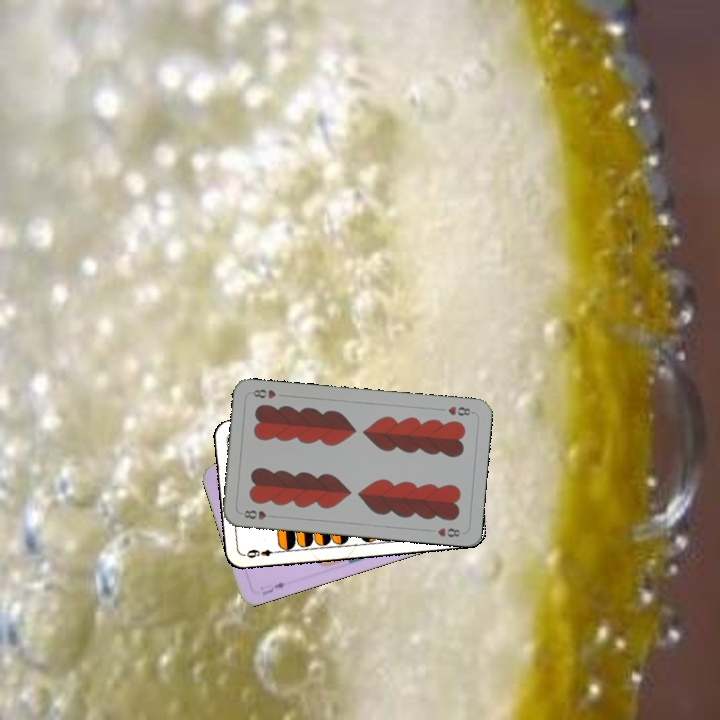E9: (241, 545, 281, 561)
EU: (258, 578, 288, 598)
H8: (444, 402, 476, 418), (240, 506, 269, 522)
